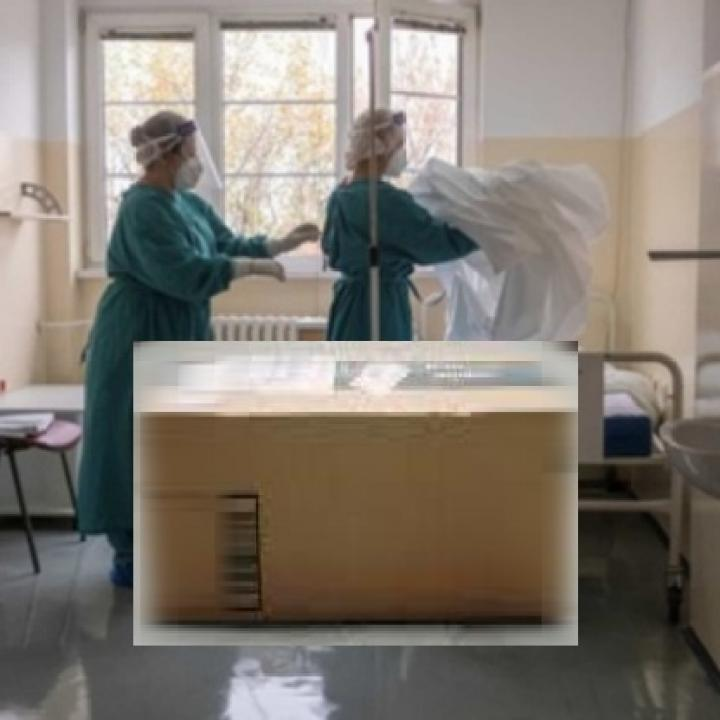box: (128, 337, 585, 651)
